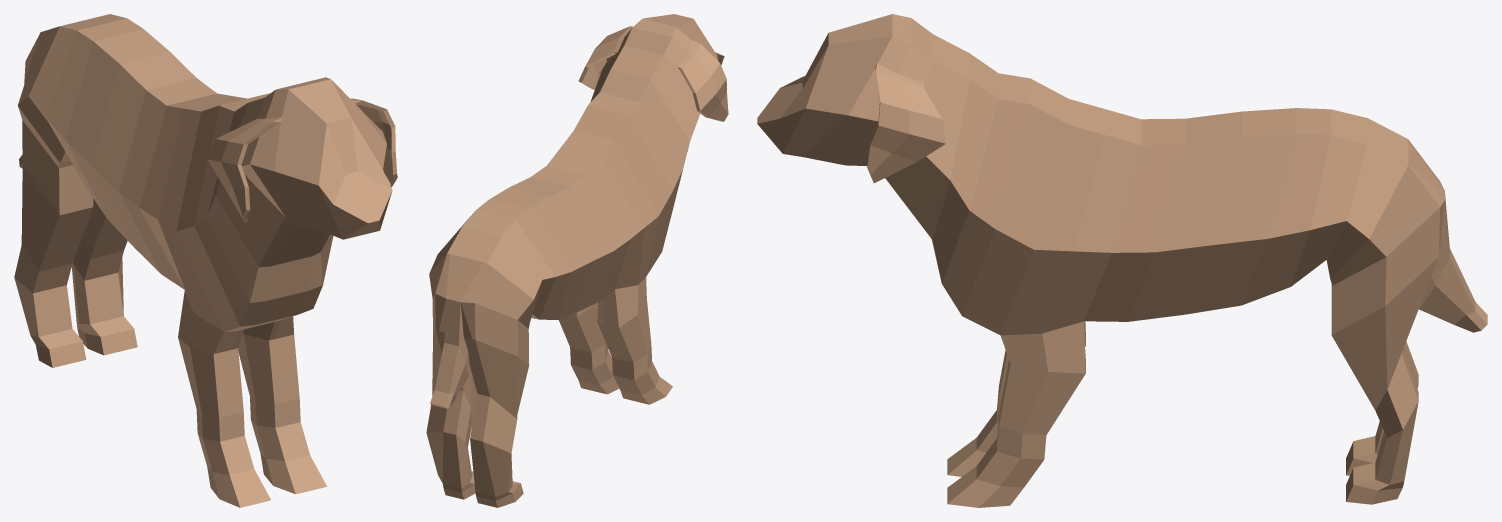
File: dog.glb
The picture shows the model from 3 angles, left to right: view 1: azimuth 30°, elevation 25°; view 2: azimuth 150°, elevation 25°; view 3: azimuth 270°, elevation 25°; orthographic projection. The views are drawn at different scales.
Visible parts, largest first — view 1: Plane; view 2: Plane; view 3: Plane.
Part boxes in pixels (x1,y1,x2,y2): Plane: [14, 14, 397, 507]; Plane: [426, 14, 728, 507]; Plane: [757, 14, 1487, 507].
Bounding box in the file's own units: 1.23 × 3.15 × 4.55.
